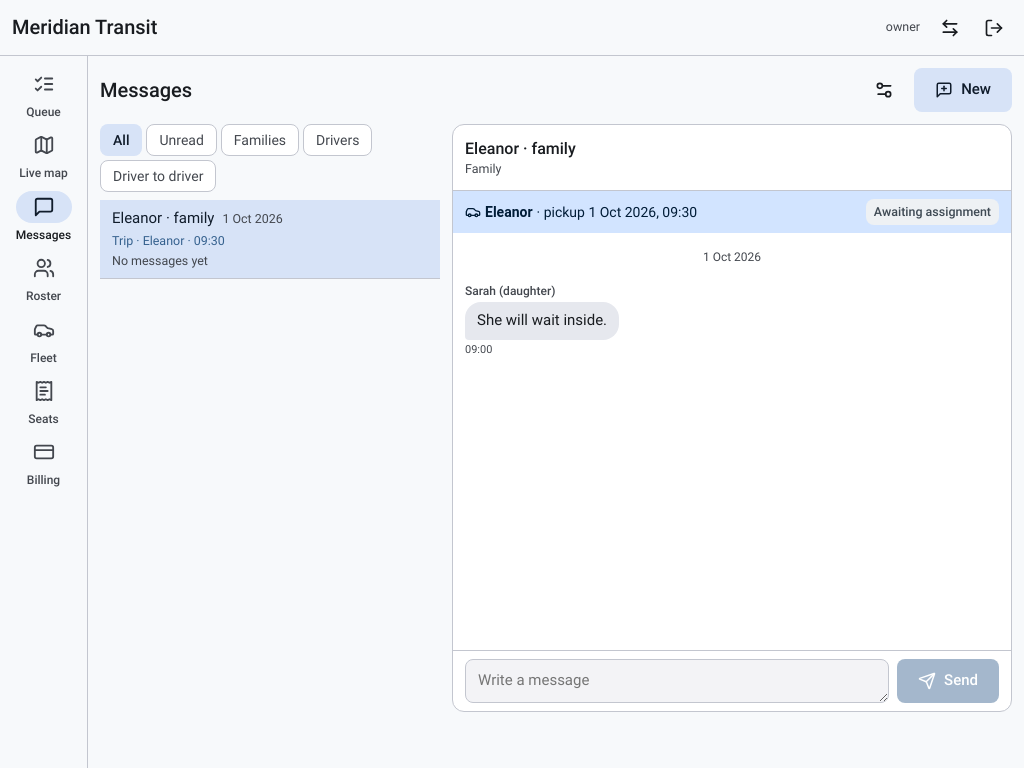
messages › shows a thread with the trip it is about, and sends with a reusable client id
Expected: the text "She will wait inside." is shown, left=465, top=302, right=619, bottom=340
Expected: the element showing "Eleanor · pickup 1 Oct 2026, 09:30 Awaiting assignment" is shown, left=453, top=191, right=1011, bottom=233
Type "Driver is ten minutes away" into the text box labelled "message". click: (677, 681)
box: left=465, top=659, right=889, bottom=703
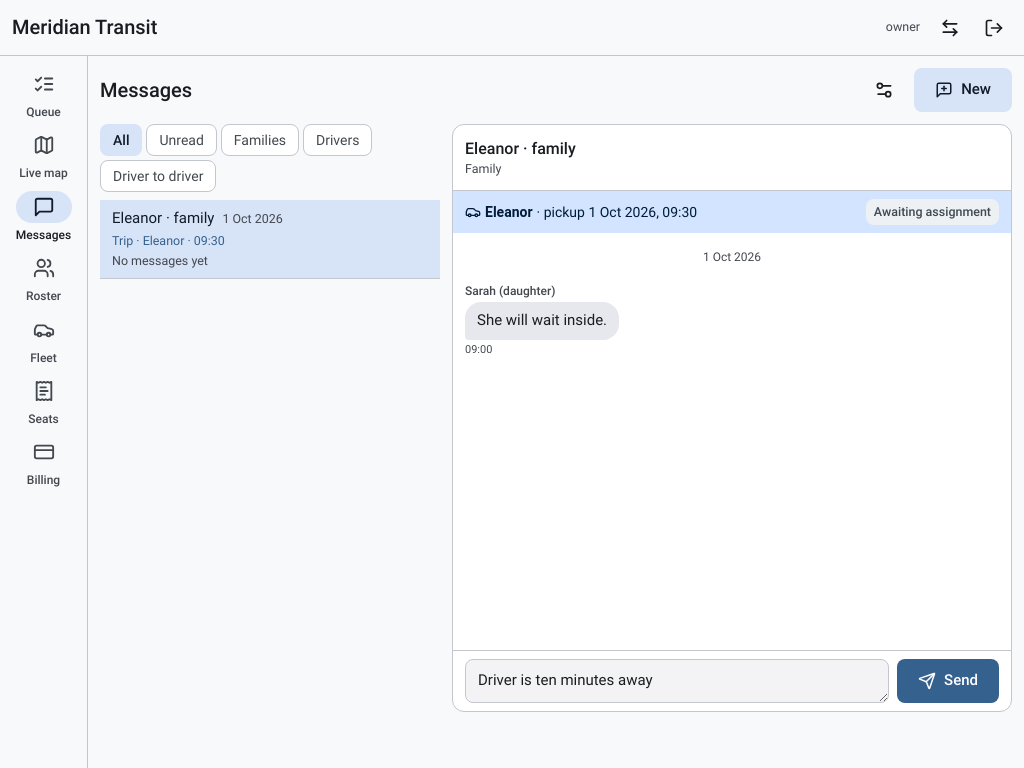
Click the button "Send". click: (948, 681)
box: left=897, top=659, right=999, bottom=703
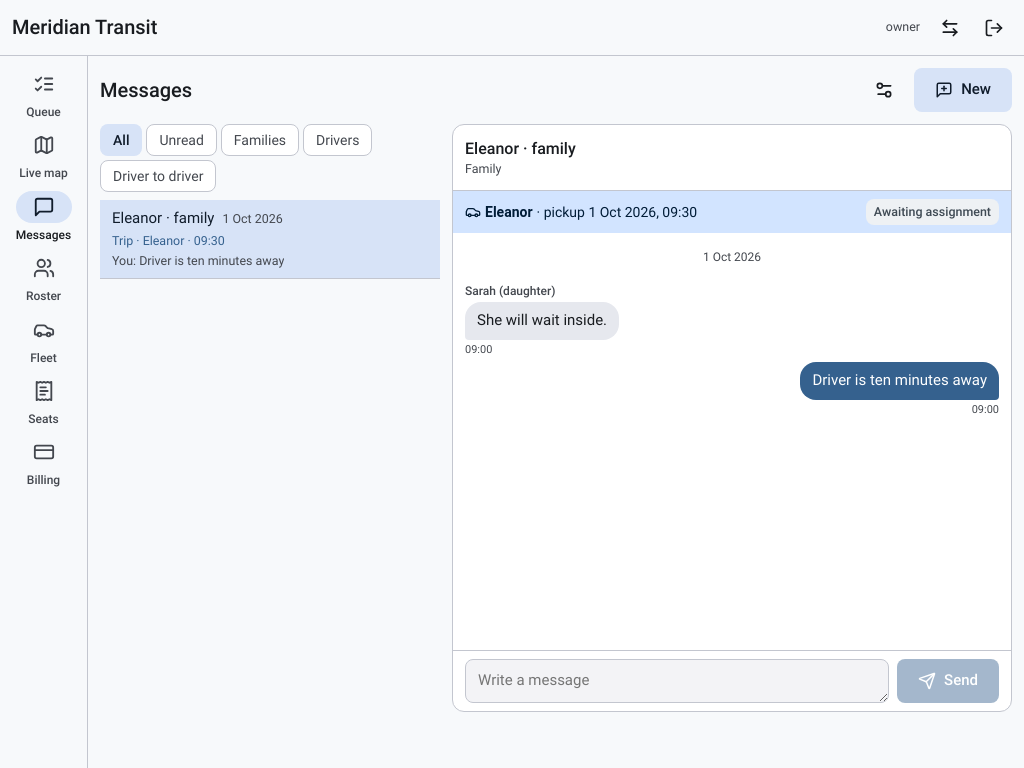
Expected: the text "Driver is ten minutes away" is shown, left=800, top=362, right=999, bottom=400
